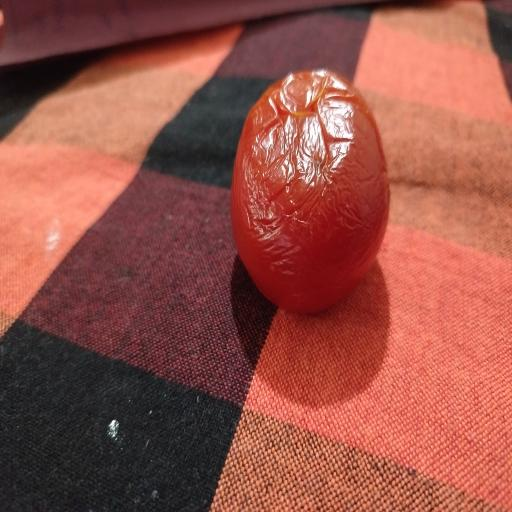spoiled: (231, 69, 389, 312)
